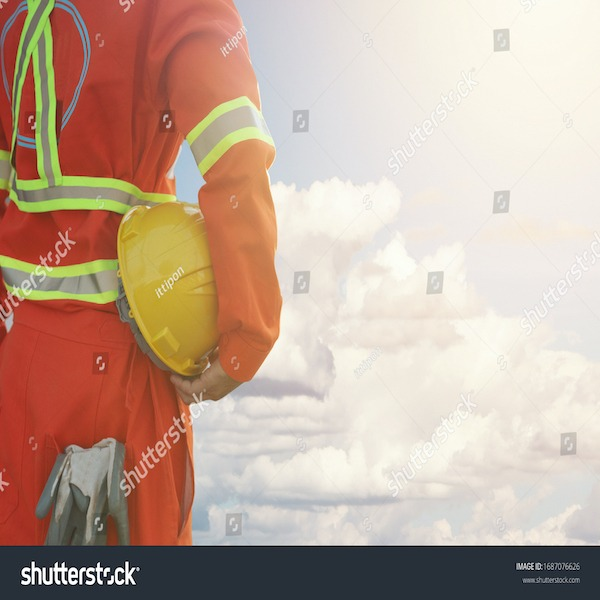helmet: (119, 199, 238, 354)
